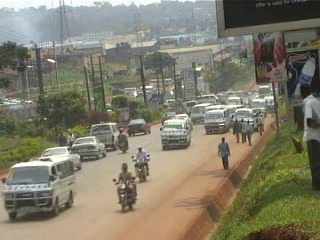Car: (37, 144, 84, 175), (68, 132, 108, 161), (124, 114, 153, 137), (173, 111, 197, 131), (160, 110, 180, 125)
Motorcycle: (110, 176, 142, 216), (130, 152, 152, 184), (116, 133, 131, 154)
